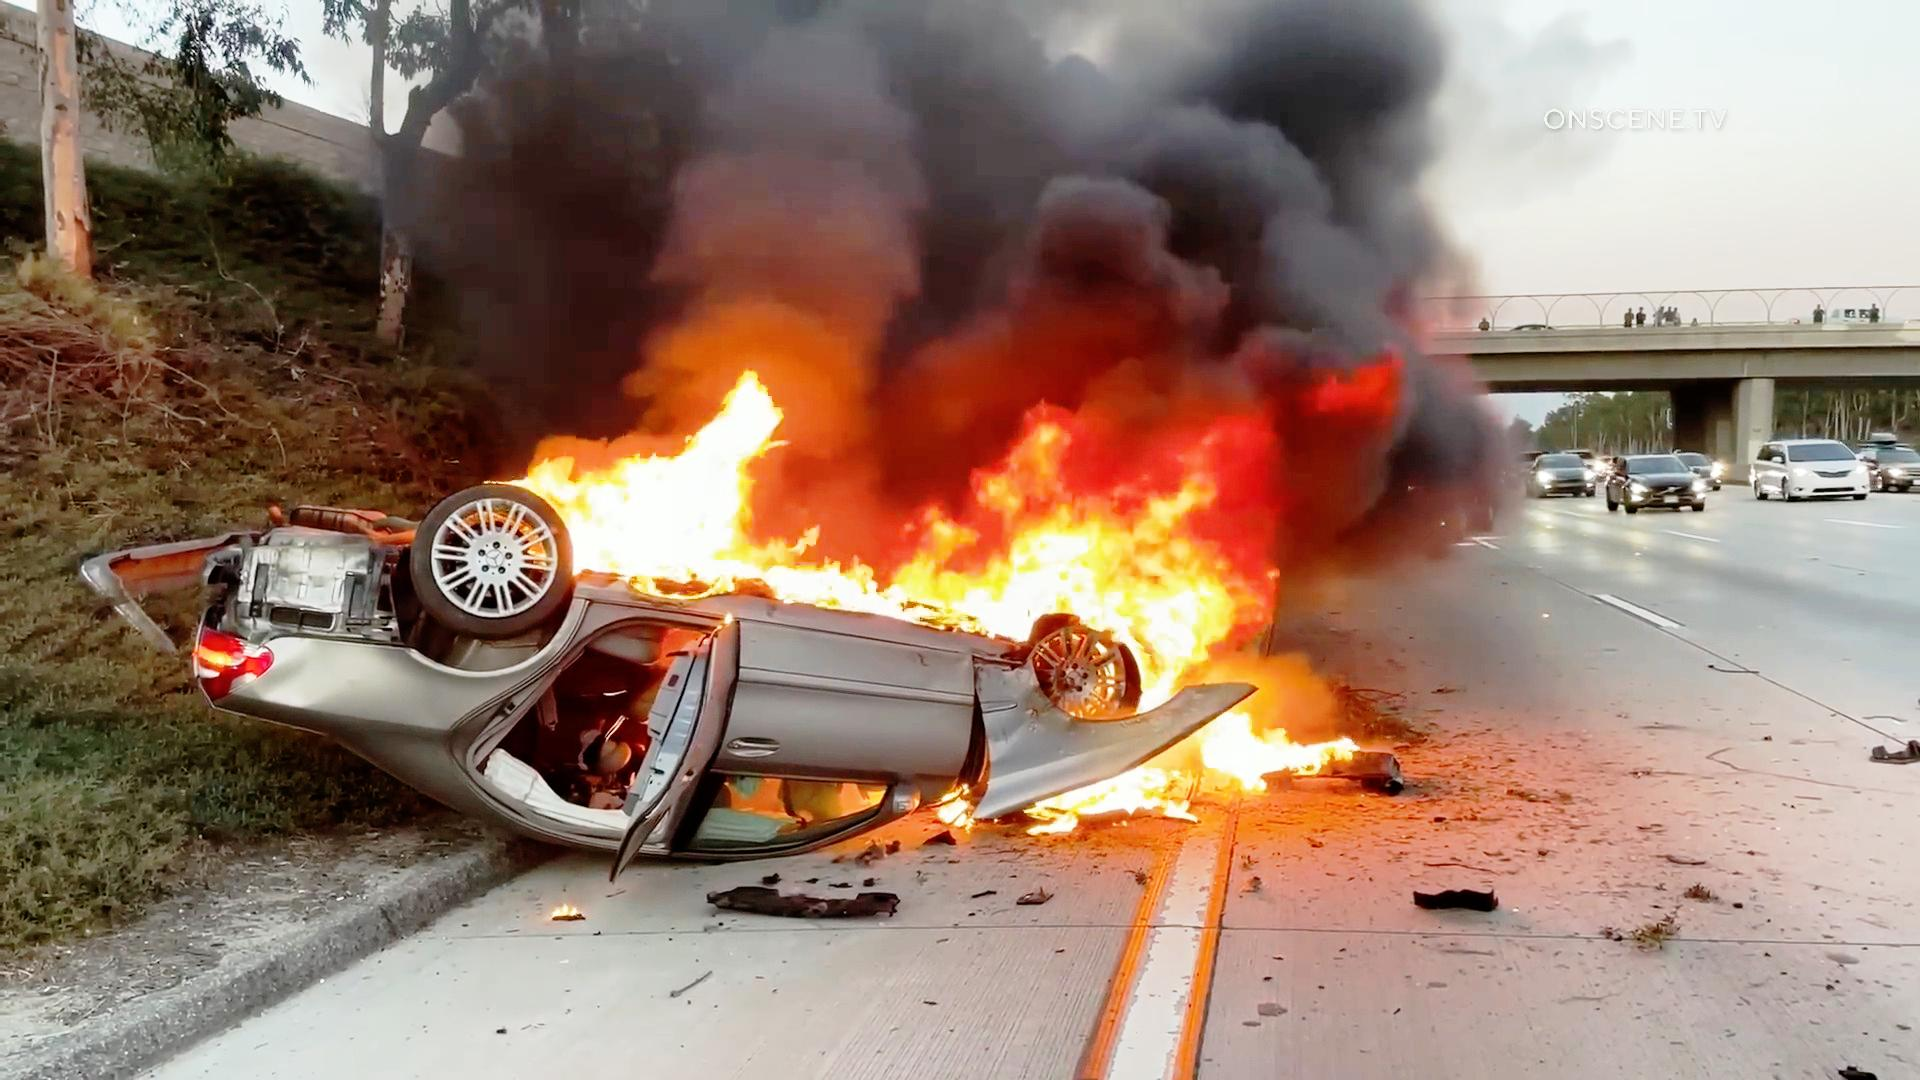fire: (955, 407, 1361, 812), (506, 368, 783, 591), (758, 510, 952, 626)
smoke: (410, 0, 1468, 360)
